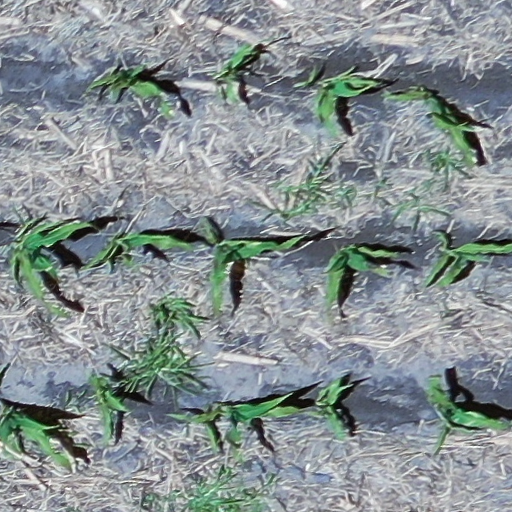planta: (199, 213, 302, 321), (9, 213, 97, 320), (385, 85, 490, 171), (324, 244, 400, 332), (428, 375, 510, 451), (226, 391, 305, 462), (312, 65, 386, 138), (78, 66, 174, 120), (76, 231, 201, 270), (163, 404, 232, 452), (88, 373, 130, 445), (211, 42, 259, 104), (311, 379, 357, 441)
